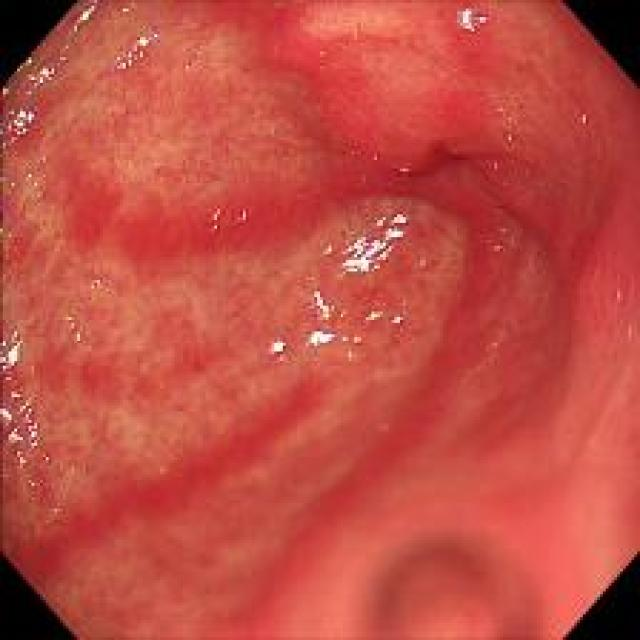blur: (485, 200, 638, 635), (318, 466, 566, 632)
bubbles: (492, 96, 530, 159), (200, 198, 256, 240), (574, 105, 594, 134)
color misalignment: (0, 346, 40, 464), (111, 30, 164, 69), (11, 56, 66, 88), (0, 99, 35, 148)
specularity: (321, 212, 418, 285), (0, 328, 41, 479), (54, 289, 109, 360), (5, 52, 66, 94), (2, 96, 48, 146), (109, 29, 162, 69), (305, 282, 336, 342), (450, 6, 490, 34), (69, 0, 100, 32), (360, 308, 405, 328), (266, 338, 292, 362)
